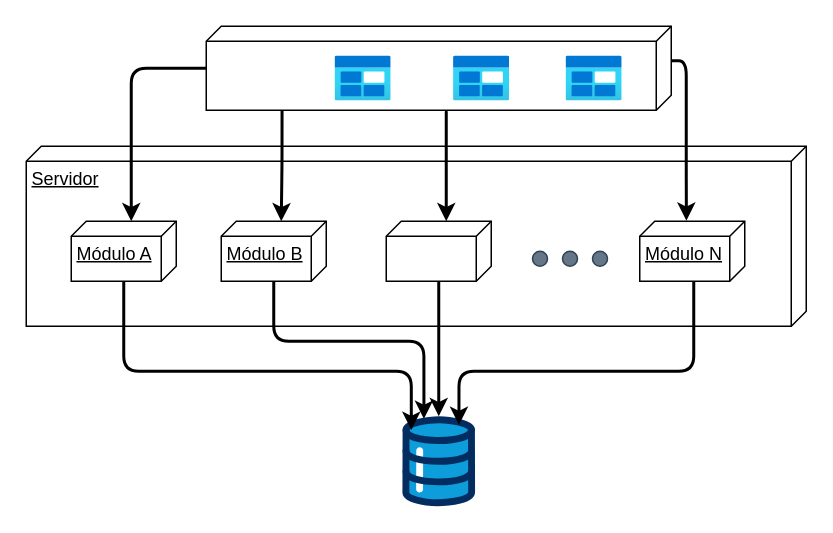
This 833x533 diagram has some shape labels left out. Each missing label, with the box of its shape:
Cliente: (205, 25, 671, 110)
Módulo C: (385, 220, 491, 281)
